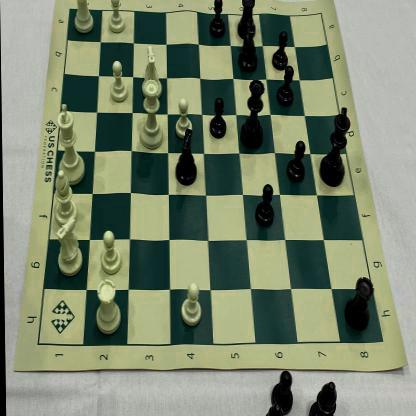black-king: (318, 105, 352, 190)
black-knight: (168, 127, 199, 188), (237, 17, 259, 75)
black-pawn: (284, 136, 308, 184), (206, 95, 230, 141), (252, 182, 274, 228), (275, 63, 296, 109), (270, 28, 290, 72), (206, 0, 226, 38)
black-queen: (236, 76, 268, 150)
black-rook: (342, 274, 375, 334), (234, 0, 258, 44)
white-bishop: (46, 167, 80, 226)
white-king: (50, 102, 85, 186)
white-knight: (51, 218, 85, 280), (139, 42, 166, 102)
white-pawn: (175, 278, 202, 329), (97, 226, 123, 278), (107, 57, 129, 104), (172, 94, 194, 140), (106, 0, 126, 35)
white-queen: (135, 79, 166, 152)
white-rook: (91, 278, 122, 338), (70, 0, 97, 37)
